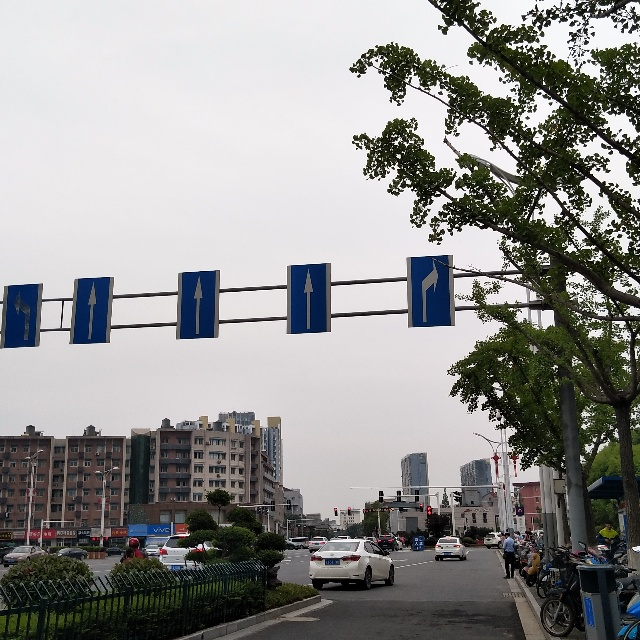left: (3, 285, 35, 342)
right: (408, 256, 453, 325)
straight: (290, 264, 327, 335), (180, 272, 214, 337), (76, 271, 106, 342)
